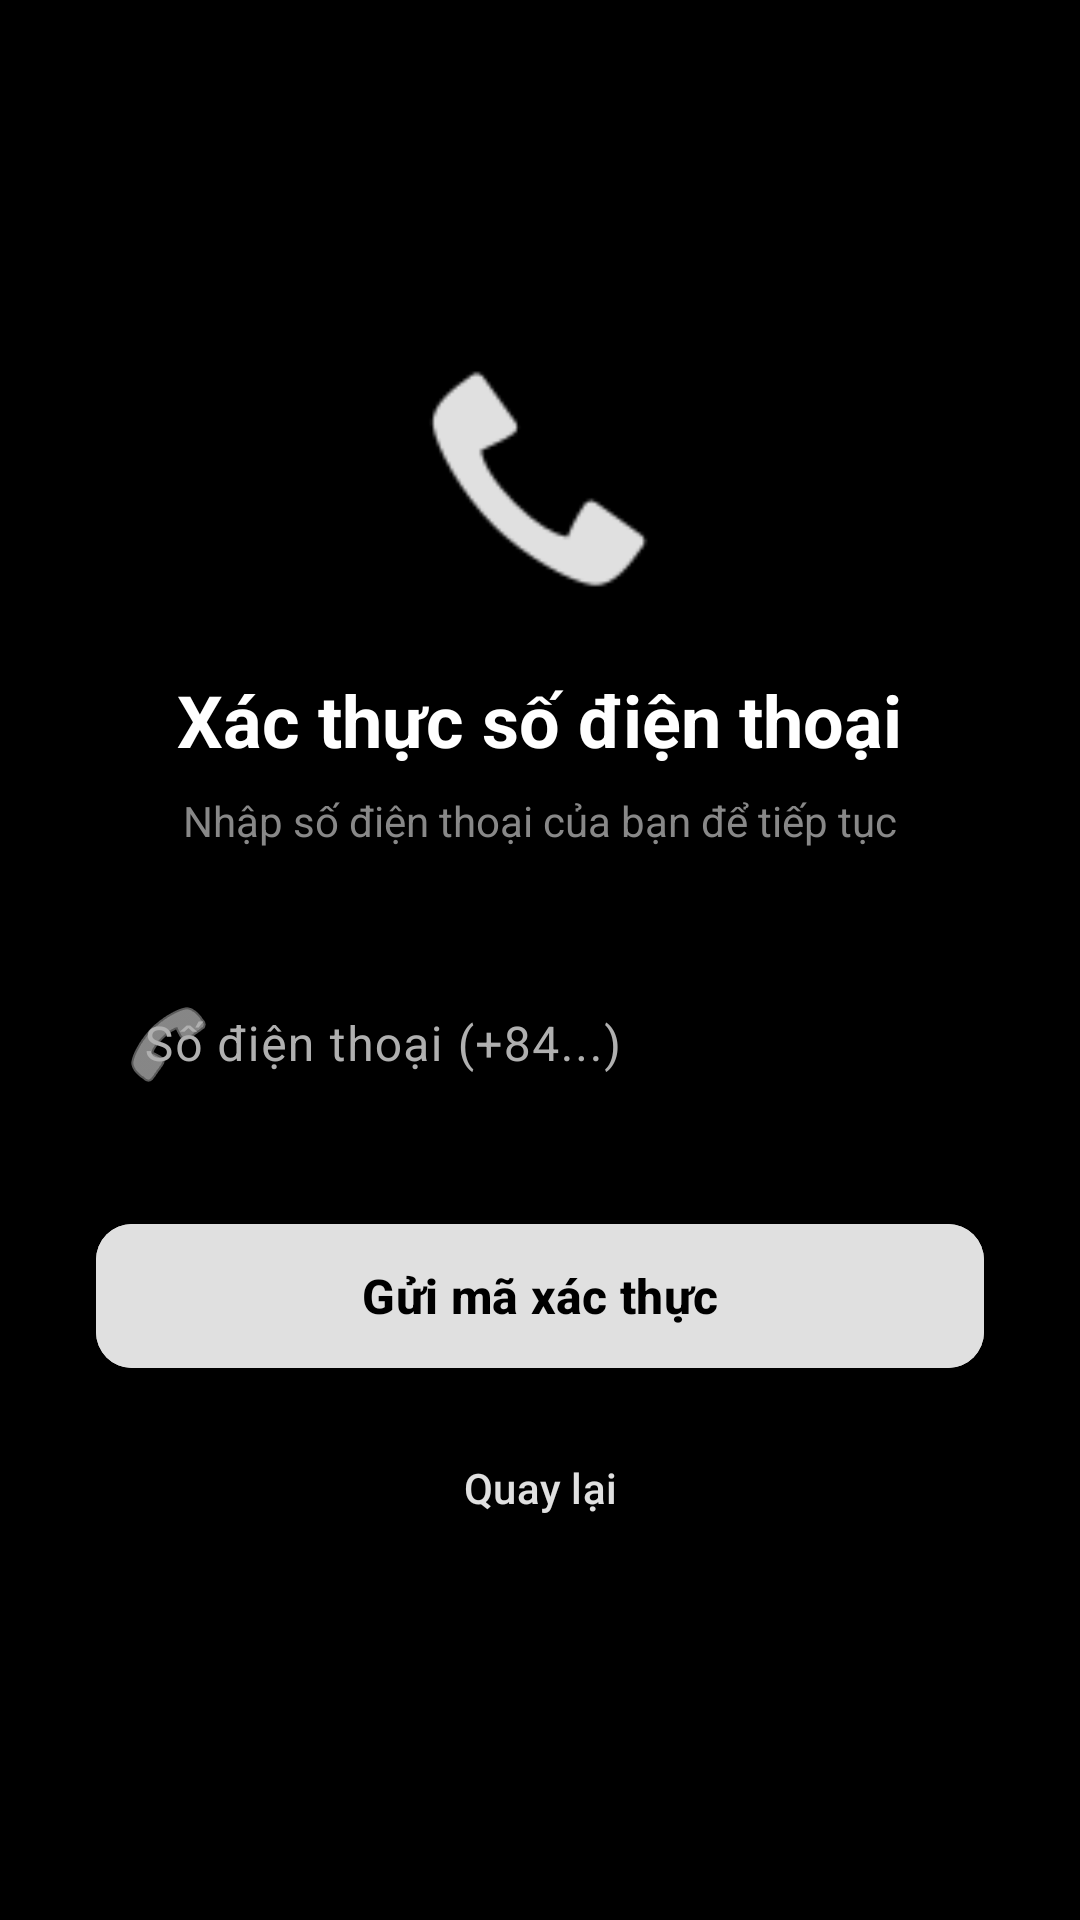

Icon bounding boxes for this 1080 x 1920 phone screenshot, format (x1, y1, x2, y2):
phone call: (432, 371, 647, 587)
